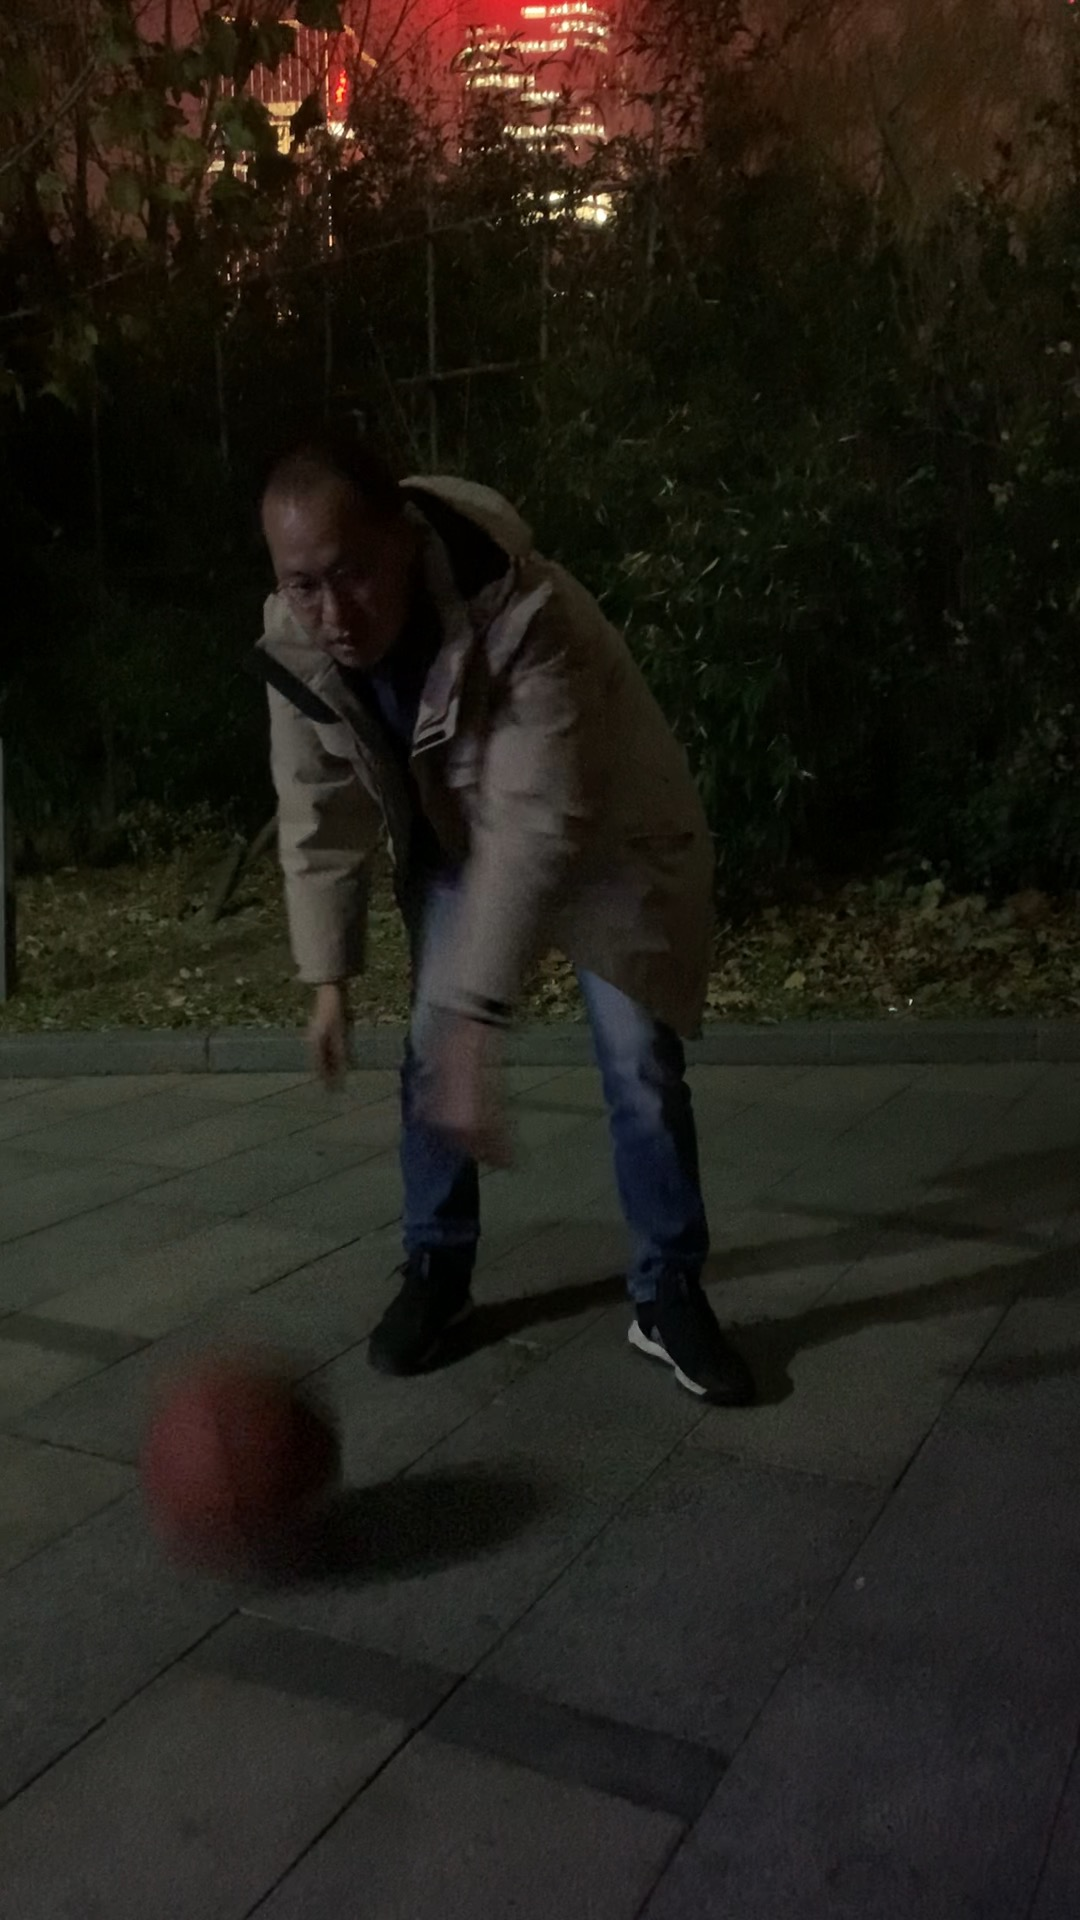ball: (154, 1367, 353, 1571)
